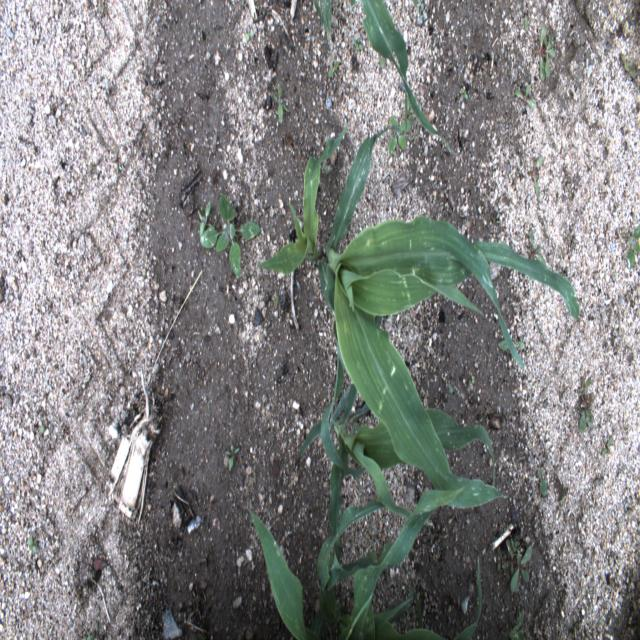crop: (251, 124, 579, 508), (292, 336, 494, 534), (248, 486, 465, 639), (358, 0, 454, 156), (458, 556, 482, 640)
weed: (196, 191, 262, 284), (504, 538, 536, 593), (534, 22, 558, 82), (385, 112, 413, 155), (525, 224, 549, 270), (270, 80, 289, 130), (500, 602, 526, 638), (310, 1, 336, 36), (573, 404, 597, 436), (530, 152, 544, 204), (514, 80, 535, 114), (625, 220, 638, 272), (621, 51, 637, 86), (226, 442, 242, 476), (411, 0, 429, 30), (490, 336, 508, 359), (537, 464, 547, 502), (324, 57, 339, 82), (601, 430, 613, 460), (618, 11, 630, 41), (514, 336, 531, 356), (497, 546, 510, 572), (564, 230, 580, 251), (85, 613, 99, 636), (26, 527, 37, 555), (576, 378, 595, 394), (242, 24, 257, 44), (110, 150, 122, 175), (460, 79, 472, 102), (594, 607, 606, 629), (353, 31, 364, 53), (521, 11, 533, 30), (94, 5, 107, 21), (566, 181, 577, 198), (38, 419, 46, 441), (464, 372, 478, 382), (349, 0, 359, 12), (272, 294, 281, 306), (446, 384, 456, 394)
